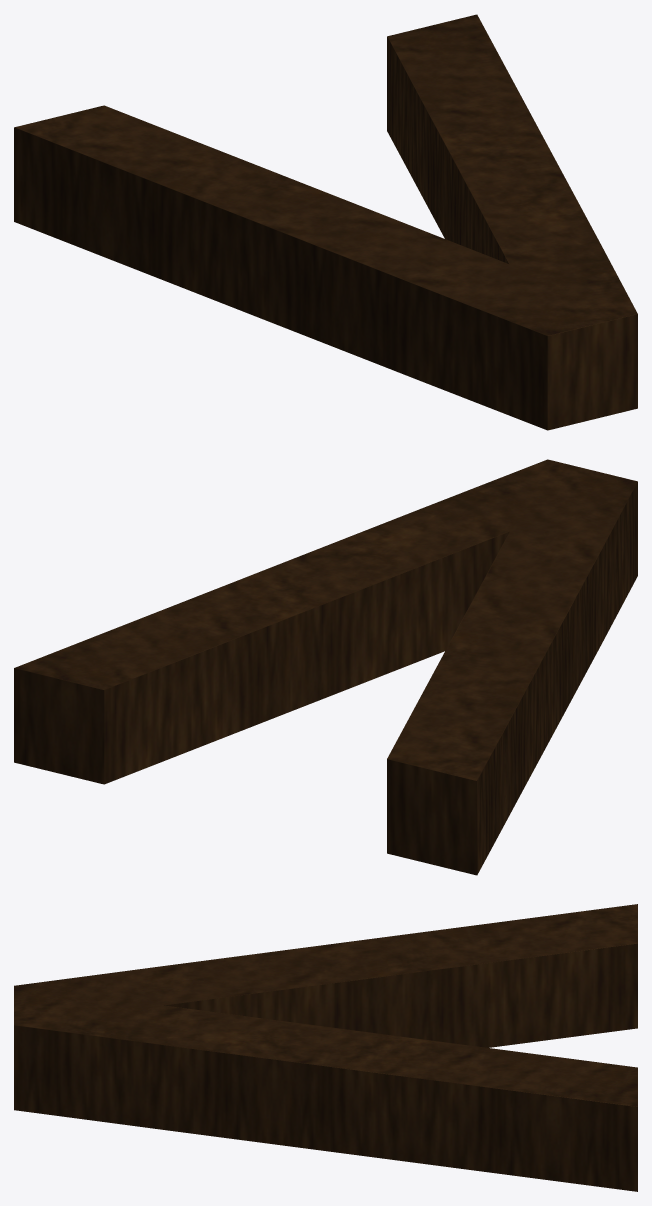
Rendered from LetterV.obj.
3 renders of one model, top to bottom at view 1: azimuth 30°, elevation 25°; view 2: azimuth 150°, elevation 25°; view 3: azimuth 270°, elevation 25°, orthographic. The views are drawn at different scales.
Visible parts, largest first — view 1: LetterV; view 2: LetterV; view 3: LetterV.
Boxes of the visible parts, box(x1,y1,x2,y2) form: LetterV: box(14, 14, 637, 430); LetterV: box(14, 459, 637, 875); LetterV: box(14, 904, 637, 1191).
Size of the model in its own units: 0.77 by 0.15 by 1.
